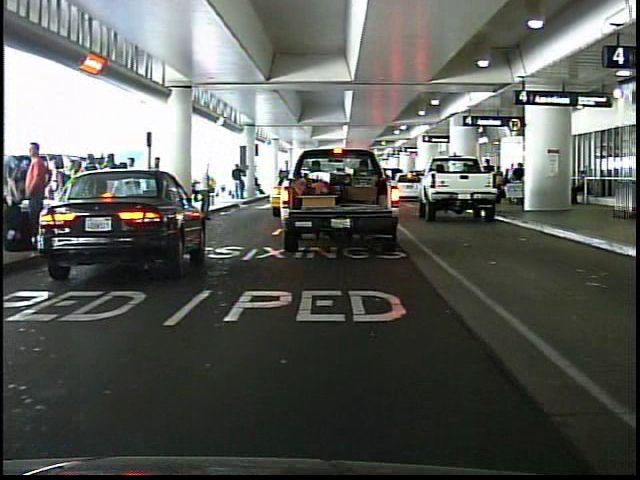person: (24, 138, 51, 255), (148, 152, 169, 219), (200, 159, 219, 221), (233, 162, 251, 199)
